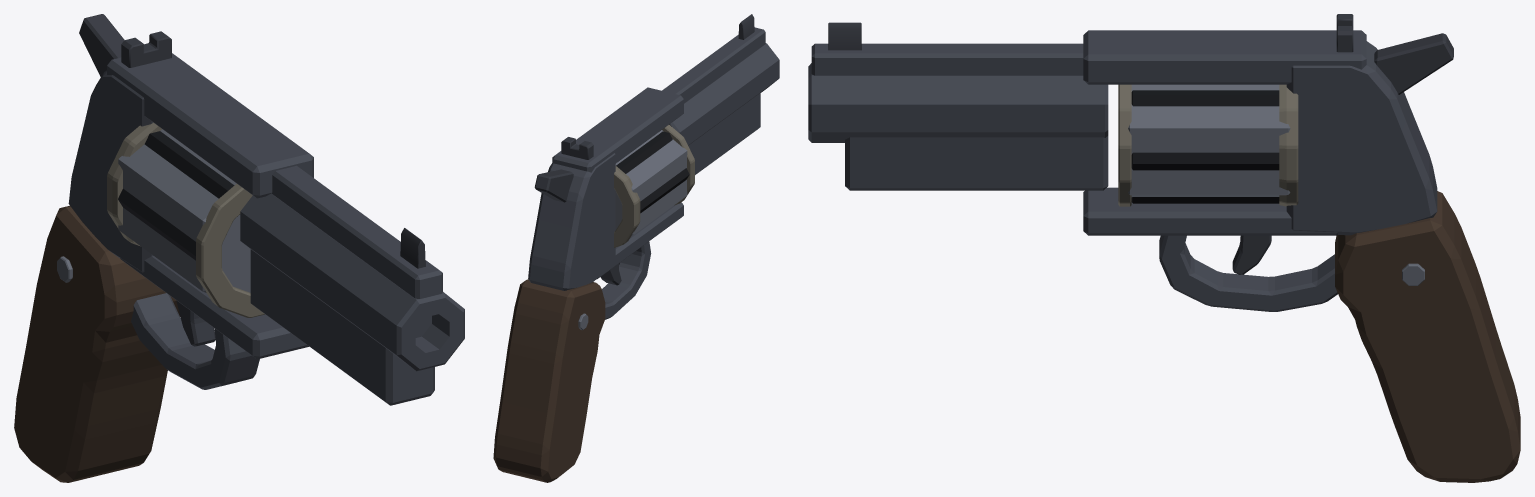
File: w_revolver.glb
The picture shows the model from 3 angles, left to right: view 1: azimuth 30°, elevation 25°; view 2: azimuth 150°, elevation 25°; view 3: azimuth 270°, elevation 25°; orthographic projection. The views are drawn at different scales.
Parts seen in each view (by area): view 1: barrel_wzA__frame__p434751, body_wzA__frame__p434751, grip_wzA__wood__p43352b, cylinder_wzB__steel__p626772, cylinder_wzN__body__p6c685e, cylinder_wzN__black__p16171b, hammer_wzN__dark__p353840, sight_wzN__dark__p353840, body_wzN__dark__p353840, barrel_wzN__dark__p353840; view 2: grip_wzA__wood__p43352b, body_wzA__frame__p434751, barrel_wzA__frame__p434751, cylinder_wzB__steel__p626772, cylinder_wzN__body__p6c685e, cylinder_wzN__black__p16171b, hammer_wzN__dark__p353840, sight_wzN__dark__p353840, barrel_wzN__dark__p353840; view 3: body_wzA__frame__p434751, barrel_wzA__frame__p434751, grip_wzA__wood__p43352b, cylinder_wzB__steel__p626772, cylinder_wzN__black__p16171b, cylinder_wzN__body__p6c685e, hammer_wzN__dark__p353840, body_wzN__dark__p353840, barrel_wzN__dark__p353840.
Boxes of the visible parts, left/top/right/bottom form: barrel_wzA__frame__p434751: left=240, top=165, right=464, bottom=405; body_wzA__frame__p434751: left=68, top=53, right=313, bottom=389; grip_wzA__wood__p43352b: left=14, top=205, right=180, bottom=482; cylinder_wzB__steel__p626772: left=118, top=129, right=250, bottom=292; cylinder_wzN__body__p6c685e: left=107, top=122, right=264, bottom=317; cylinder_wzN__black__p16171b: left=118, top=131, right=234, bottom=260; hammer_wzN__dark__p353840: left=79, top=14, right=124, bottom=77; sight_wzN__dark__p353840: left=121, top=31, right=171, bottom=67; body_wzN__dark__p353840: left=176, top=300, right=215, bottom=346; barrel_wzN__dark__p353840: left=400, top=228, right=425, bottom=268; grip_wzA__wood__p43352b: left=493, top=279, right=605, bottom=482; body_wzA__frame__p434751: left=528, top=87, right=683, bottom=319; barrel_wzA__frame__p434751: left=662, top=27, right=779, bottom=174; cylinder_wzB__steel__p626772: left=615, top=130, right=687, bottom=235; cylinder_wzN__body__p6c685e: left=614, top=125, right=694, bottom=247; cylinder_wzN__black__p16171b: left=616, top=131, right=689, bottom=213; hammer_wzN__dark__p353840: left=534, top=169, right=573, bottom=202; sight_wzN__dark__p353840: left=561, top=137, right=593, bottom=159; barrel_wzN__dark__p353840: left=738, top=14, right=754, bottom=39; body_wzA__frame__p434751: left=1083, top=30, right=1437, bottom=311; barrel_wzA__frame__p434751: left=808, top=43, right=1108, bottom=190; grip_wzA__wood__p43352b: left=1335, top=191, right=1520, bottom=482; cylinder_wzB__steel__p626772: left=1128, top=84, right=1290, bottom=196; cylinder_wzN__black__p16171b: left=1131, top=90, right=1279, bottom=203; cylinder_wzN__body__p6c685e: left=1118, top=84, right=1298, bottom=206; hammer_wzN__dark__p353840: left=1374, top=33, right=1453, bottom=94; body_wzN__dark__p353840: left=1232, top=235, right=1271, bottom=274; barrel_wzN__dark__p353840: left=828, top=22, right=861, bottom=50.
Size of the model in its own units: 0.085 by 0.2941 by 0.4273.
